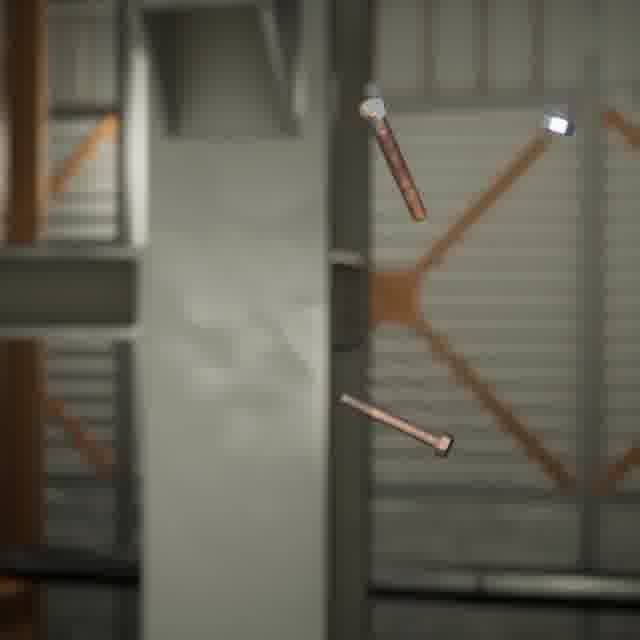bolt: (354, 93, 430, 225), (335, 387, 458, 463)
nut: (536, 109, 579, 140)
